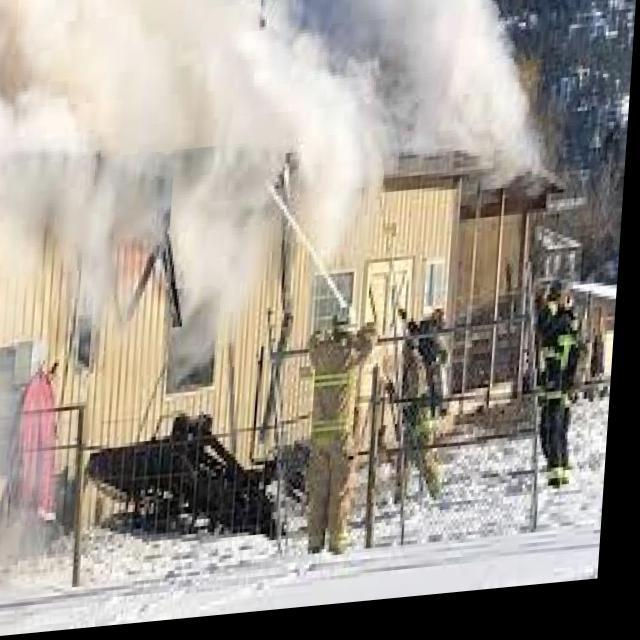Smoke: (0, 0, 383, 363), (255, 0, 575, 225)
